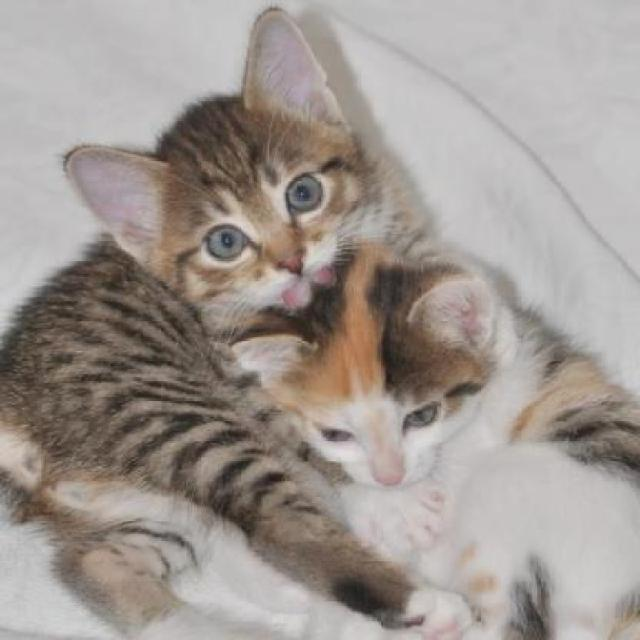cat: (0, 9, 425, 640), (229, 255, 640, 640)
